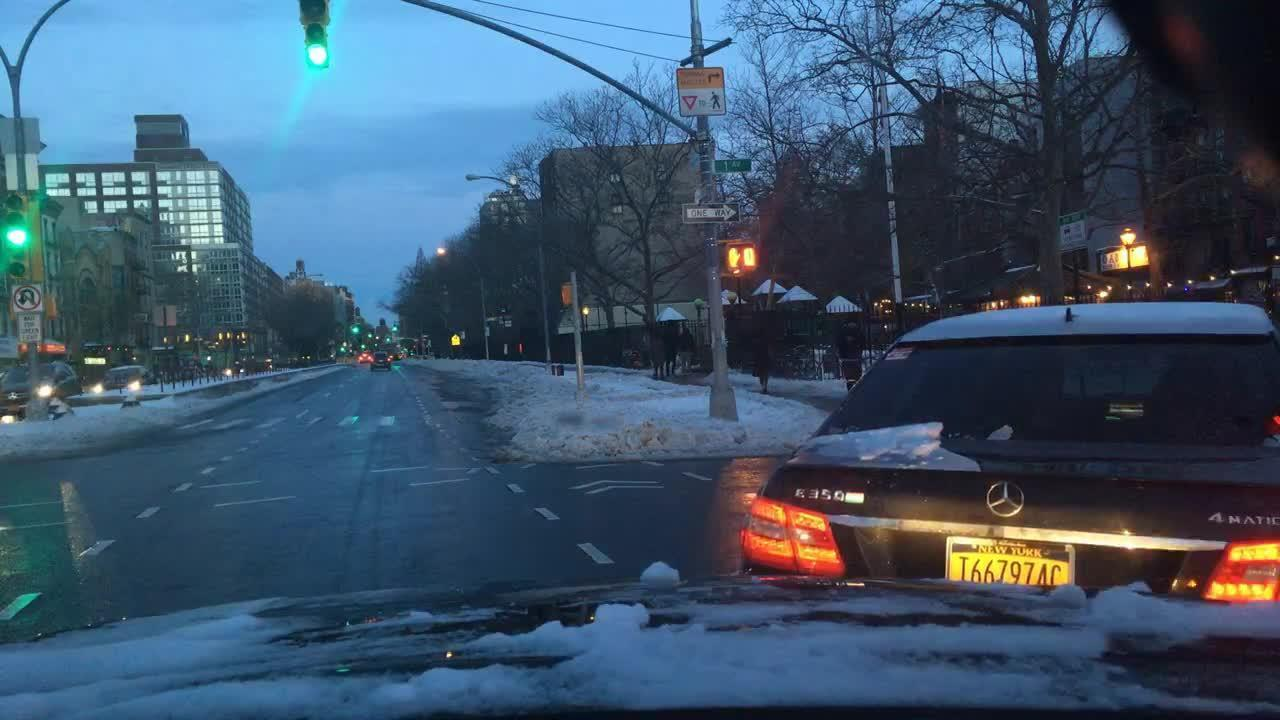Mercedes: (984, 473, 1028, 521)
